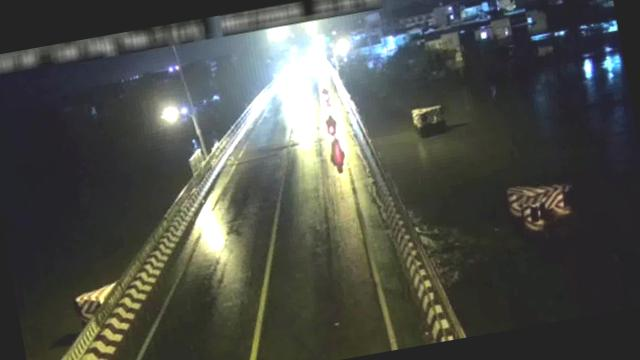Bike: (322, 114, 339, 137), (319, 85, 334, 106)
